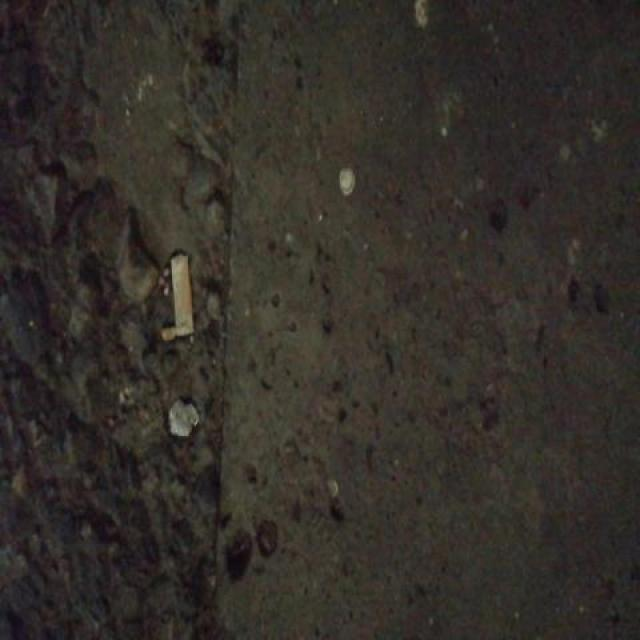non-organic waste: (168, 246, 197, 342)
